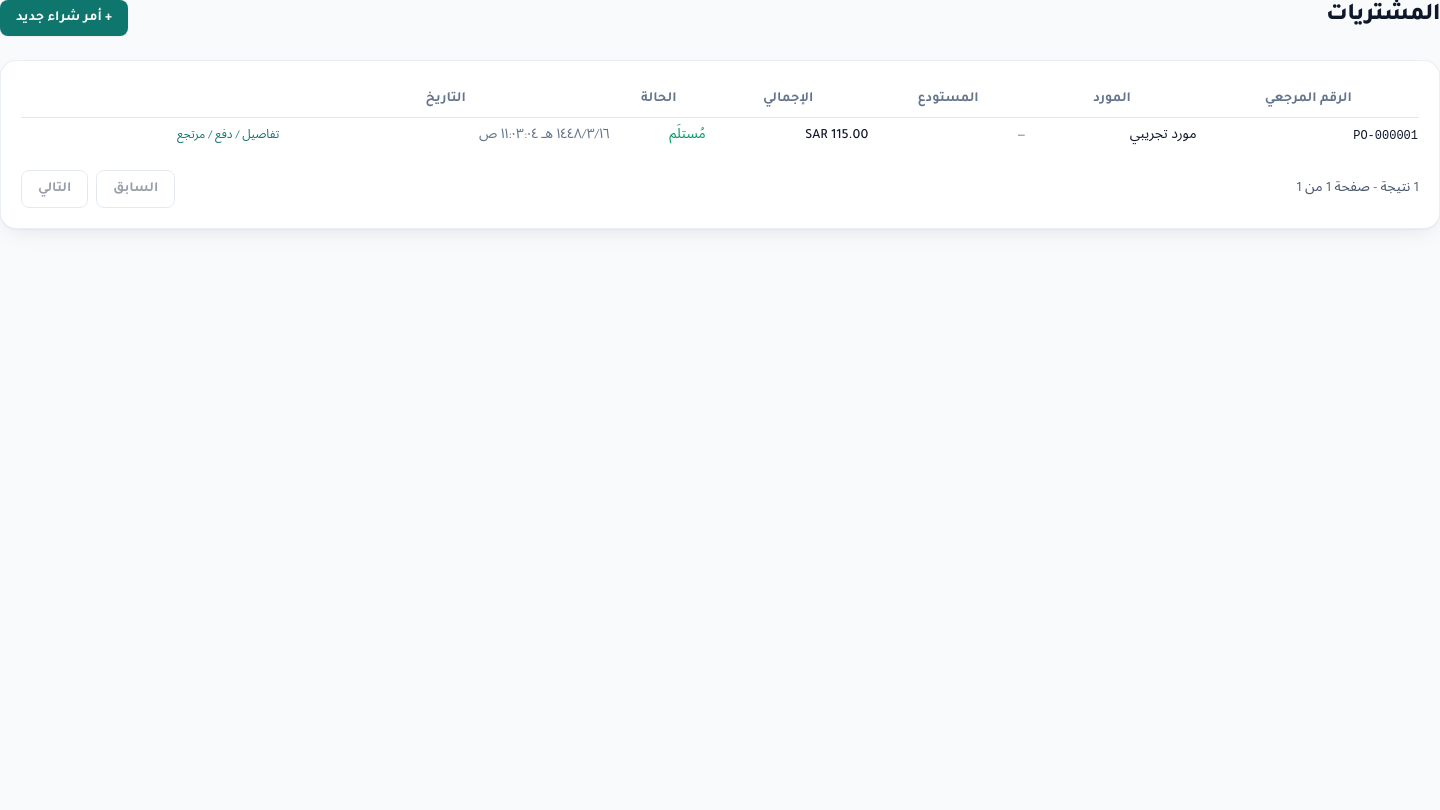
PurchasesPage - Milestone 7 supplier payments & purchase returns › عضو بلا صلاحية purchases.return لا يرى نموذج تسجيل مرتجع
What coordinates should you click on to do the following:
click the button "تفاصيل / دفع / مرتجع"
I would click on:
 (228, 136)
Its box is [177,128,279,144].
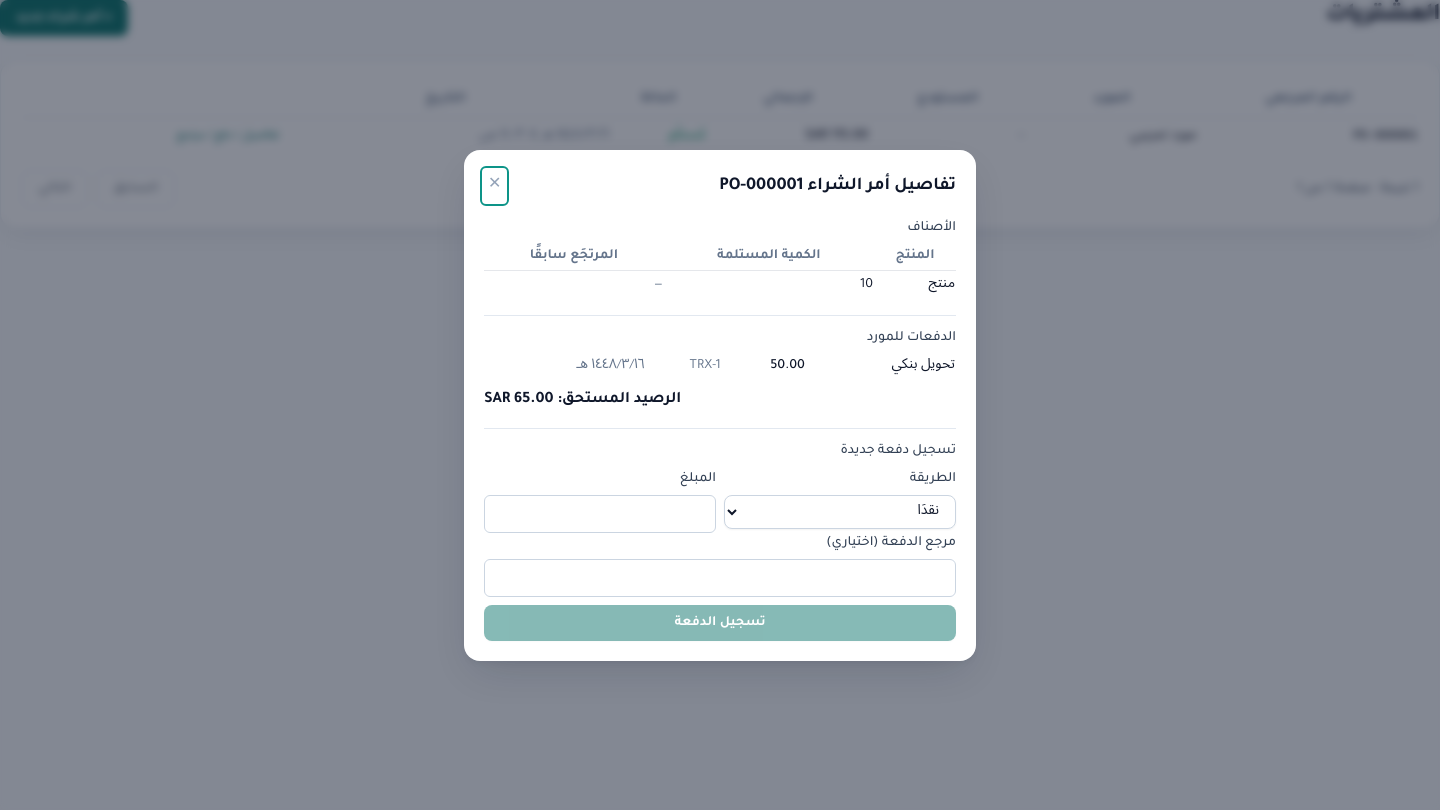
Result: the text "الرصيد المستحق: 65.00 SAR" is shown at [484,392,681,408]
